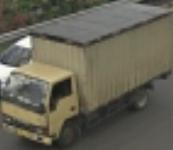truck: (1, 63, 85, 150)
